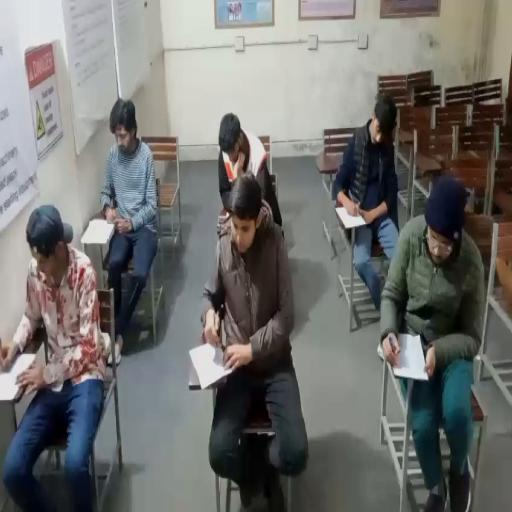paper: (188, 342, 234, 390), (390, 332, 430, 380), (0, 353, 36, 402), (81, 218, 115, 246), (334, 204, 367, 228)
